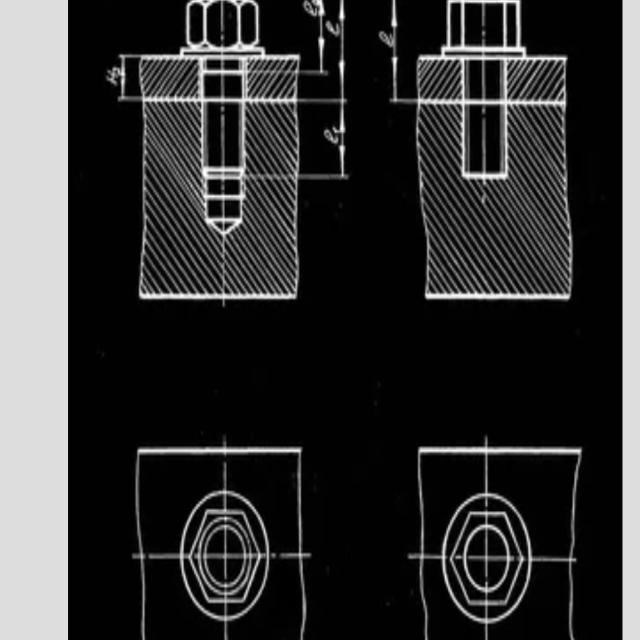marking_line: (300, 0, 351, 183), (301, 0, 349, 105), (389, 0, 416, 107), (302, 0, 333, 80), (118, 55, 140, 105)
numeric: (325, 18, 340, 38), (300, 0, 318, 16), (379, 30, 393, 46), (325, 128, 338, 144), (107, 66, 123, 77)
